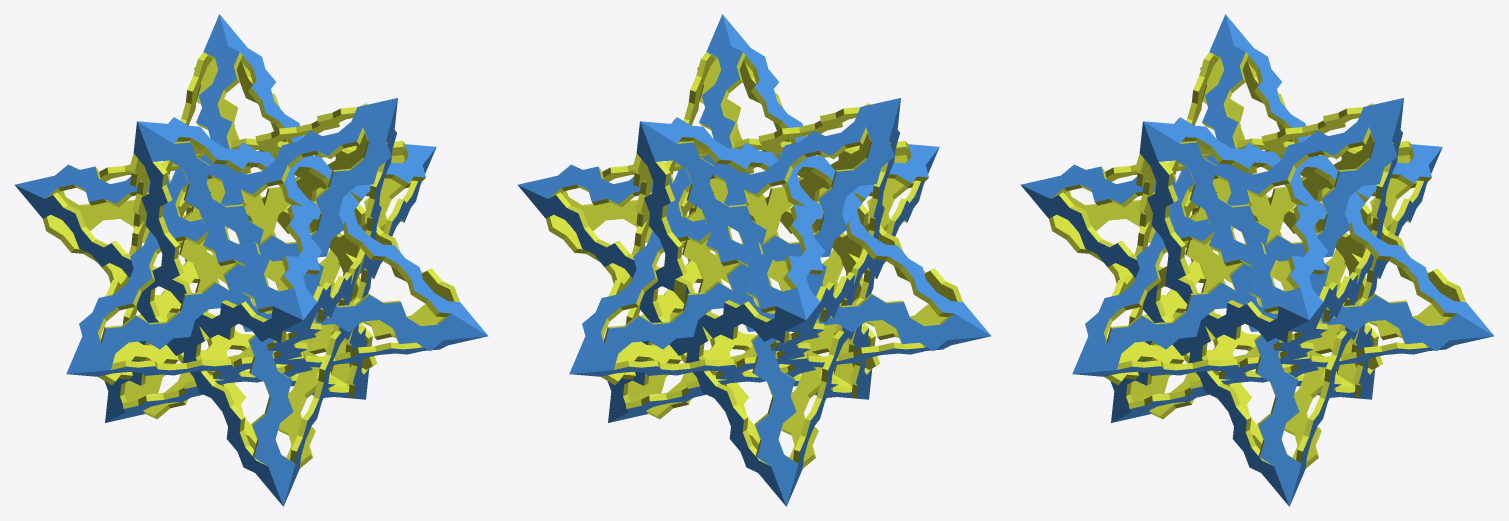
File: StarDodecahedronPolyknot17.glb
3 renders of one model, left to right at view 1: azimuth 30°, elevation 25°; view 2: azimuth 150°, elevation 25°; view 3: azimuth 270°, elevation 25°, orthographic.
Parts seen in each view (by area): view 1: ESCHER_5.0_STELLATED_DODECAHEDRON_NET_2Augmented_Penta_Prism; view 2: ESCHER_5.0_STELLATED_DODECAHEDRON_NET_2Augmented_Penta_Prism; view 3: ESCHER_5.0_STELLATED_DODECAHEDRON_NET_2Augmented_Penta_Prism.
Part boxes in pixels (x1=…): ESCHER_5.0_STELLATED_DODECAHEDRON_NET_2Augmented_Penta_Prism: x1=14, y1=14, x2=488, y2=506; ESCHER_5.0_STELLATED_DODECAHEDRON_NET_2Augmented_Penta_Prism: x1=517, y1=14, x2=991, y2=506; ESCHER_5.0_STELLATED_DODECAHEDRON_NET_2Augmented_Penta_Prism: x1=1020, y1=14, x2=1494, y2=506.
Bounding box in the file's own units: 121 × 100 × 118.
